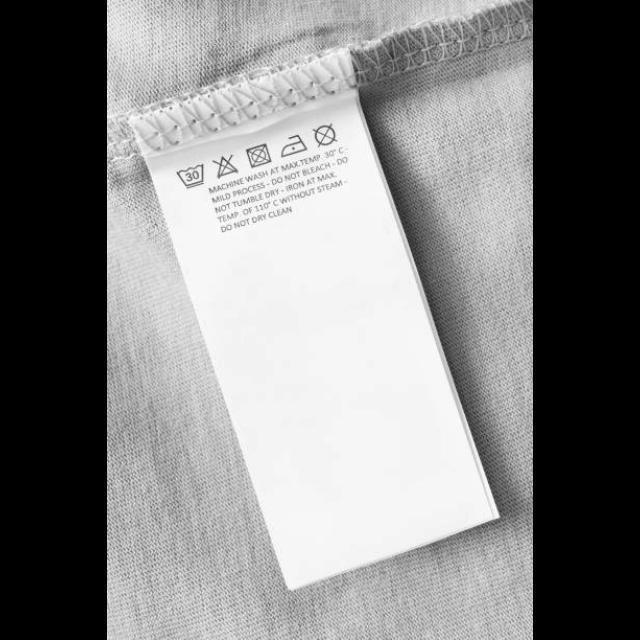30C: (174, 160, 208, 190)
DN_bleach: (211, 152, 243, 180)
DN_dry_clean: (312, 122, 341, 150)
DN_tumble_dry: (244, 142, 274, 168)
iron_low: (280, 134, 310, 158)
